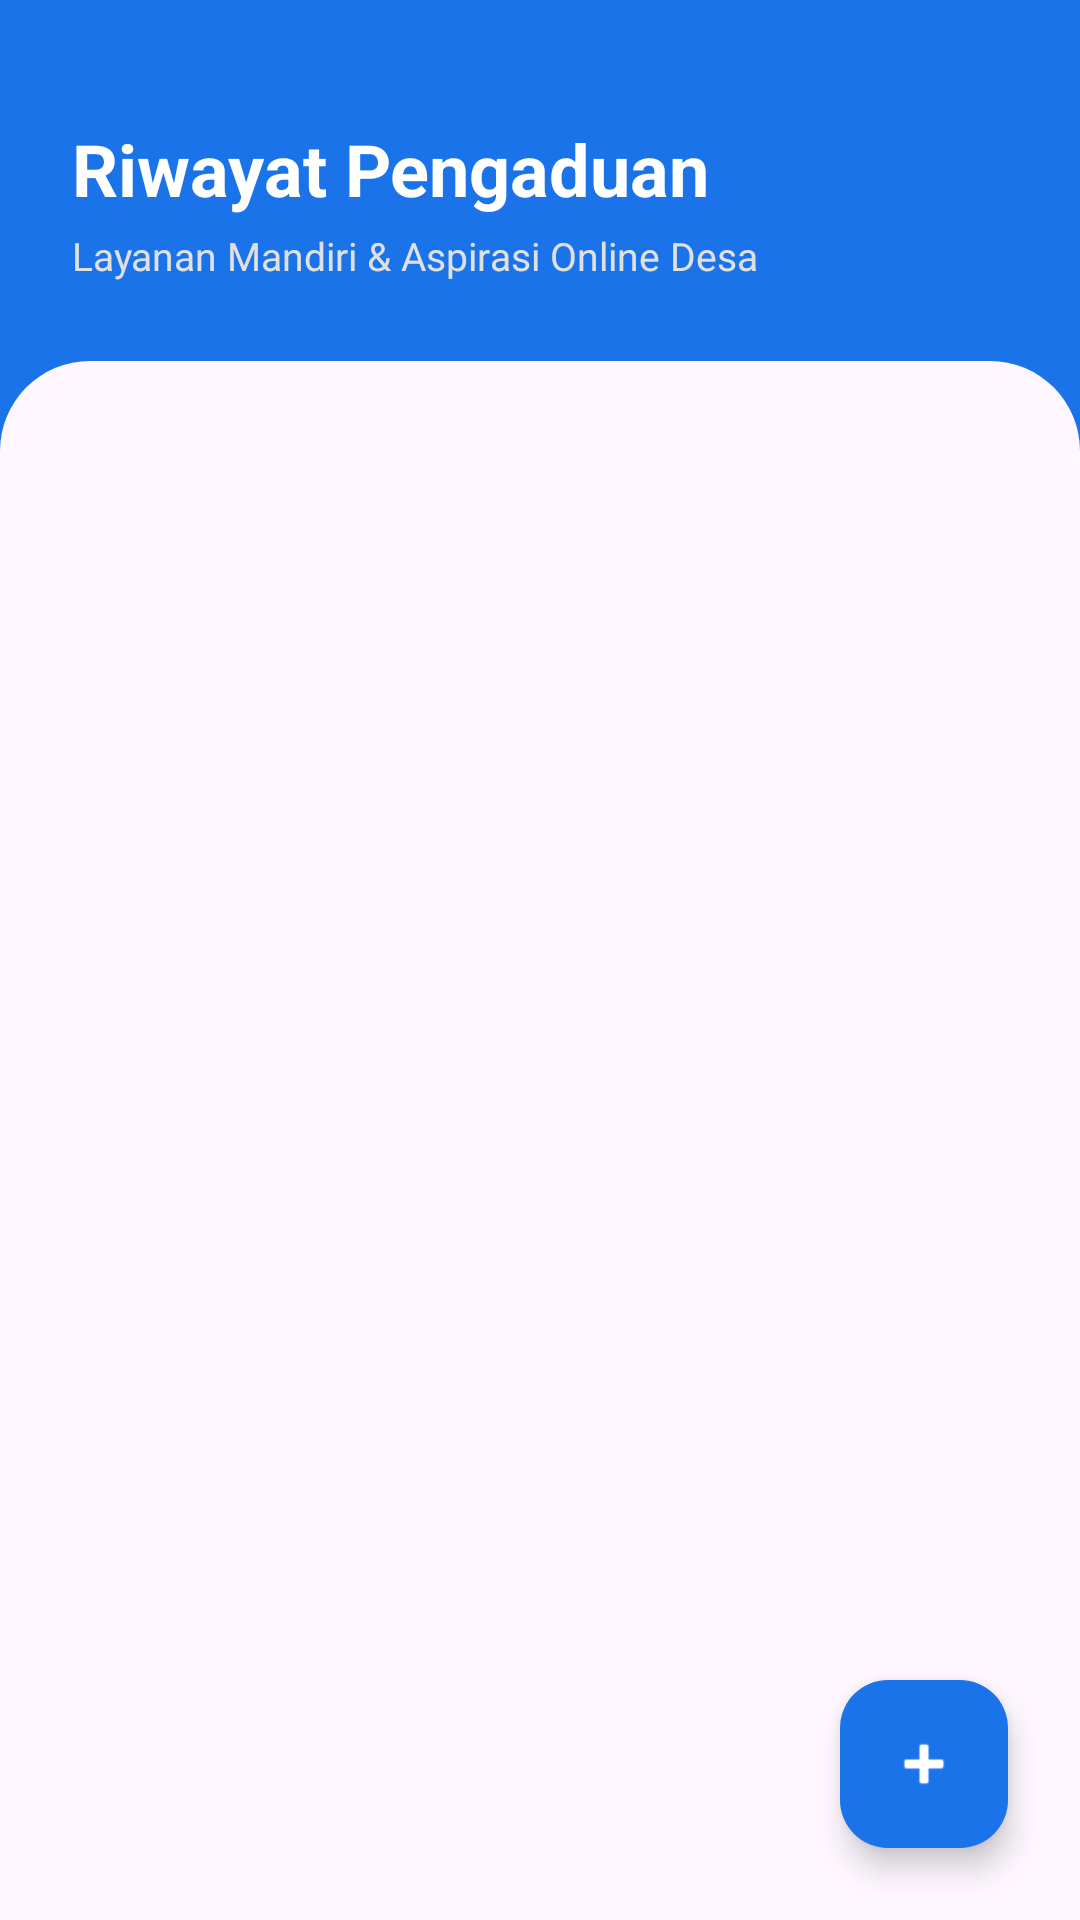

Where to tap for icons on this 1080x1920 app screen, as point (x, y):
Tambah Pengaduan: point (924, 1764)
